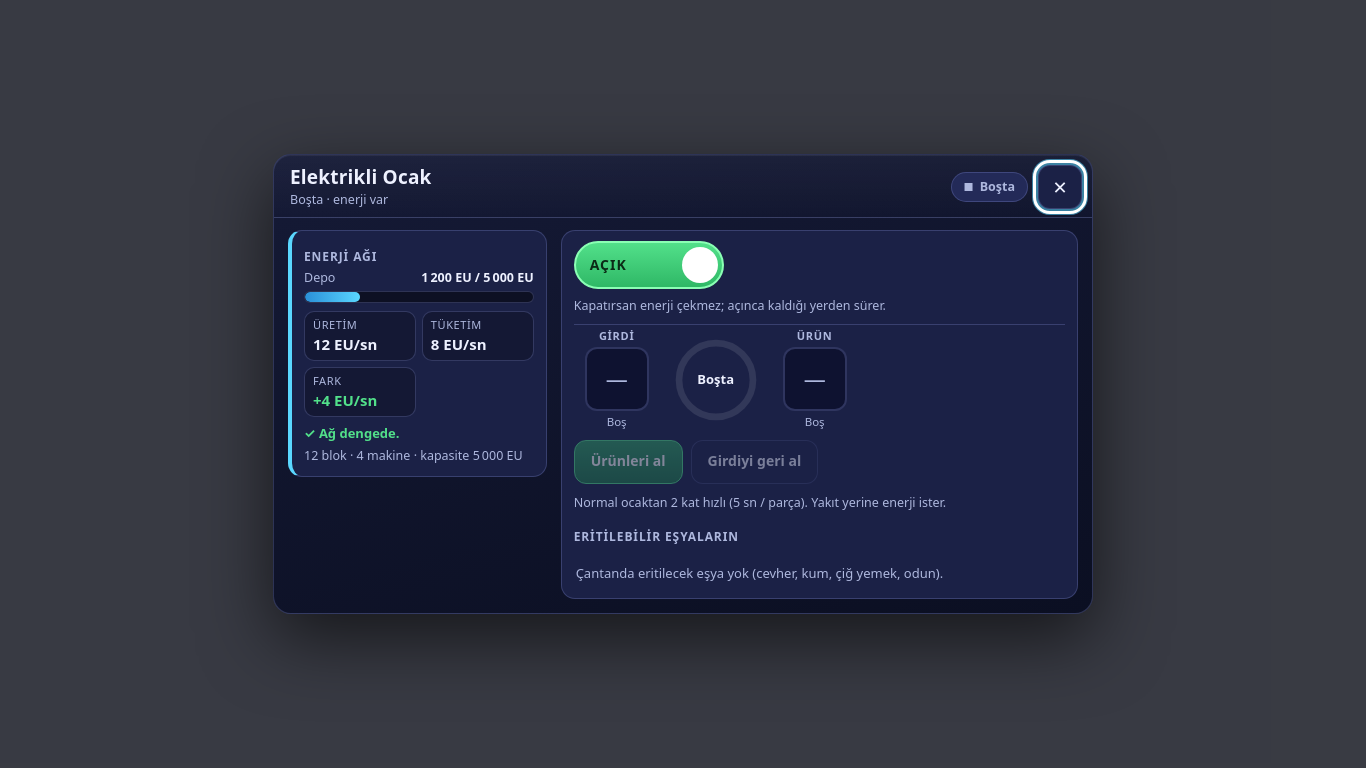
it: MachinePanel › açma/kapama anahtarı: anahtarlanabilir makinede görünür, kapalıyken durum etiketi değişir; pilde yok
The image size is (1366, 768).
Click the switch with test id "km-power-switch" at x=649, y=265, box [574, 241, 724, 289]
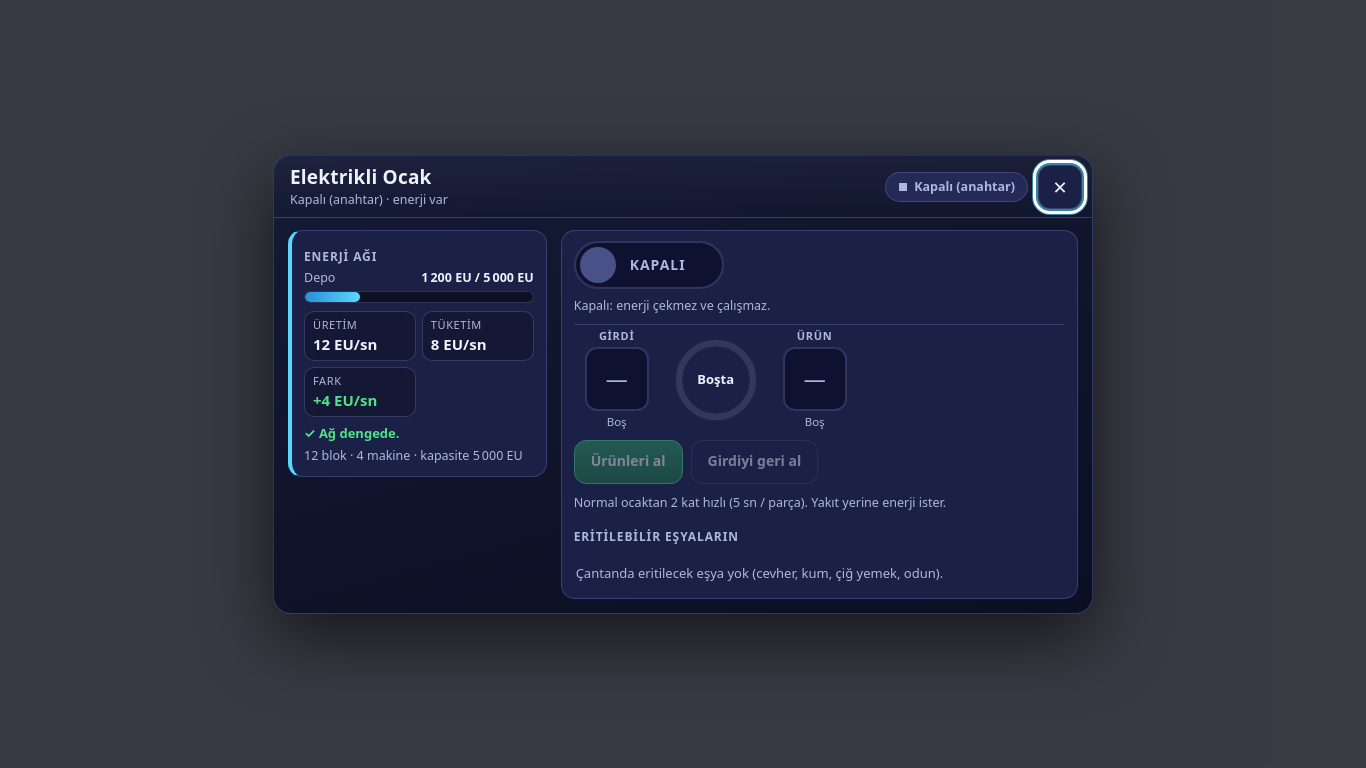
Now the text with test id "machine-state" reads "Kapalı (anahtar)", box [914, 178, 1015, 194]
